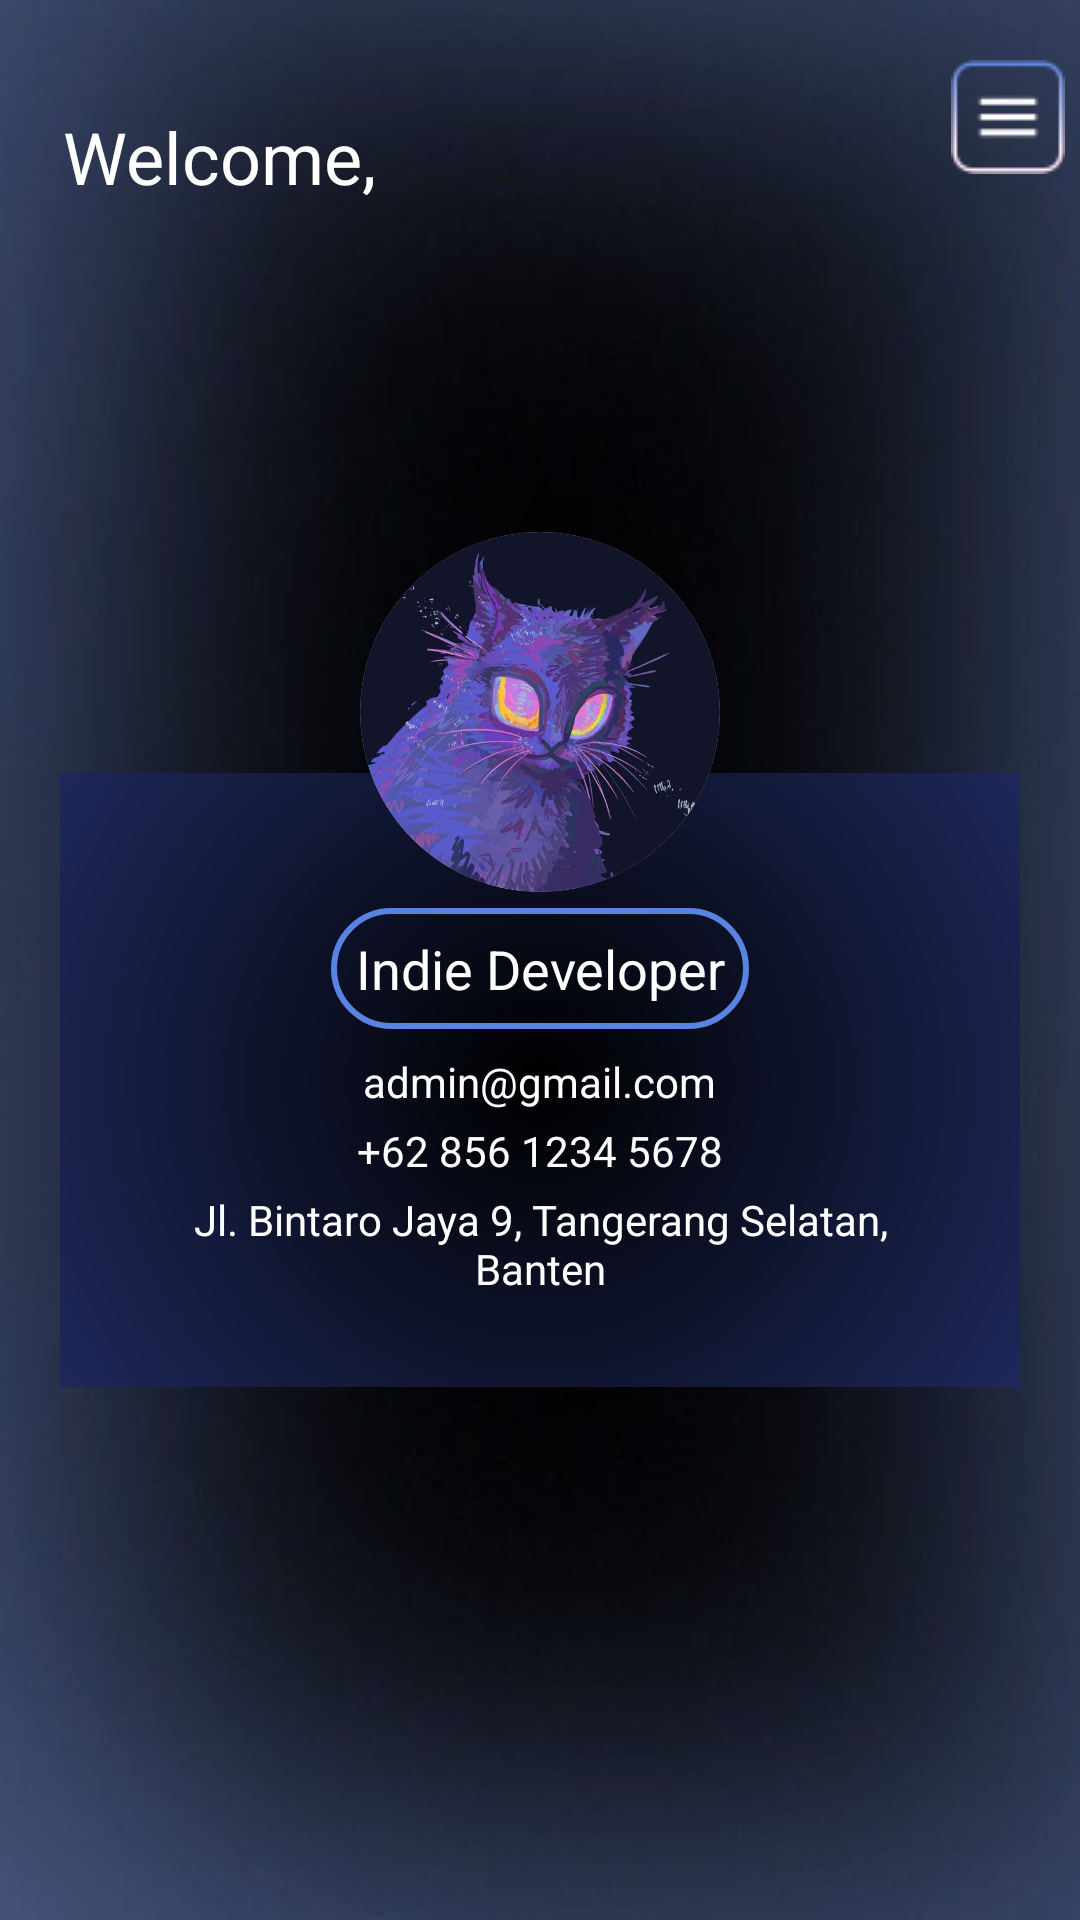

Where to tap for icons on this 1080w x 1920h app screen, as (x=x, y=y):
menu: (x=1008, y=117)
profile: (x=540, y=712)
